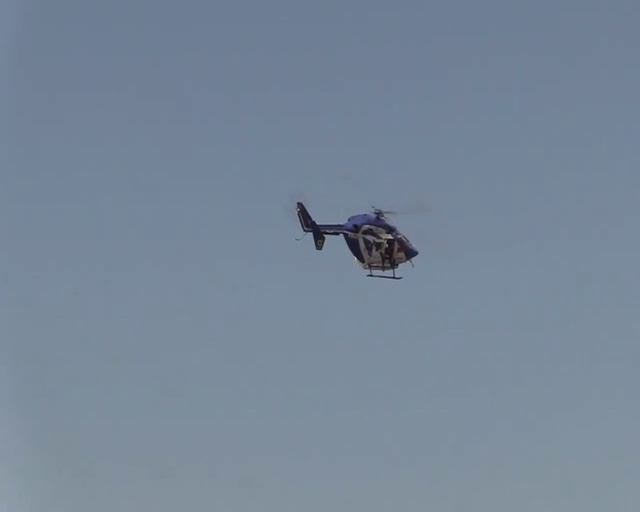HELICOPTER: (293, 200, 428, 280)
